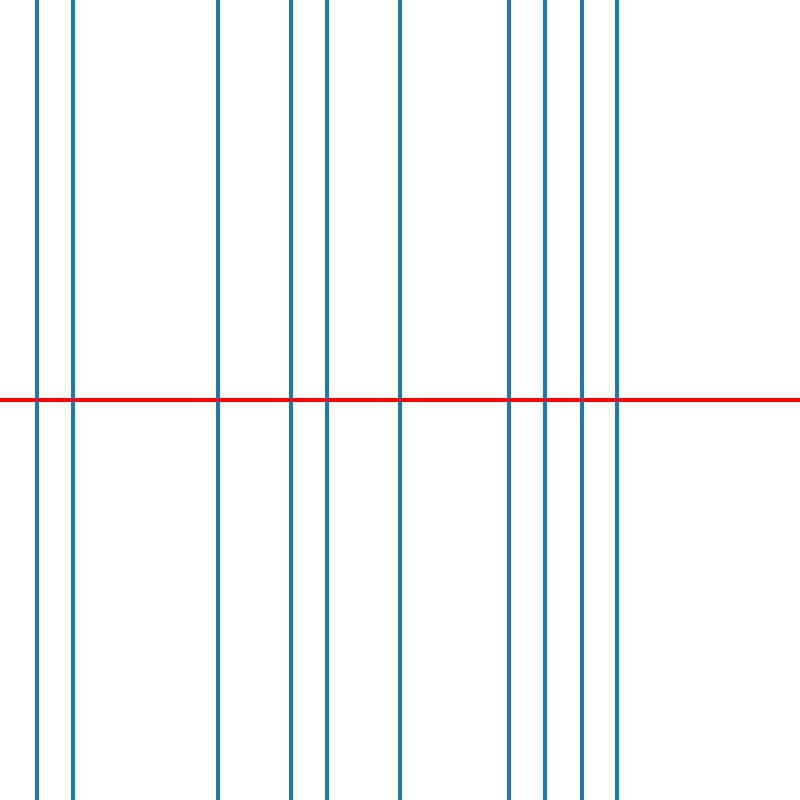root: (541, 396, 549, 404), (32, 396, 40, 404), (505, 396, 512, 404), (323, 396, 330, 404), (578, 396, 585, 404), (287, 396, 294, 404), (396, 396, 403, 404), (614, 396, 621, 404), (69, 396, 76, 404), (214, 396, 221, 404)
